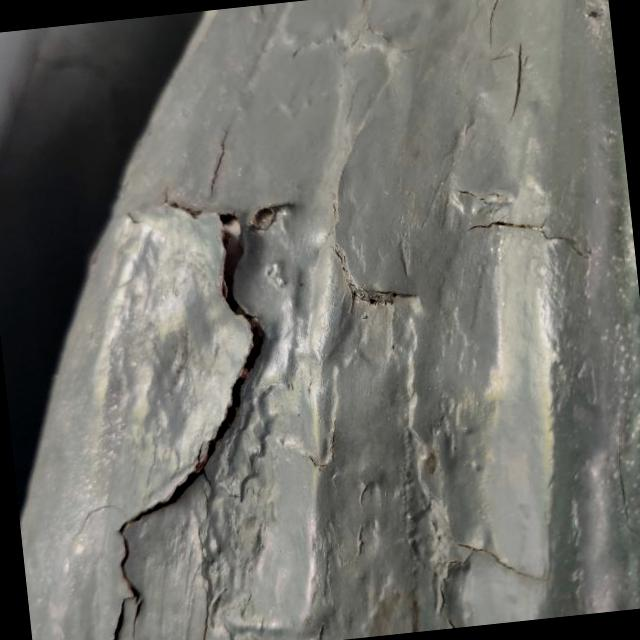crack: (35, 164, 377, 640)
